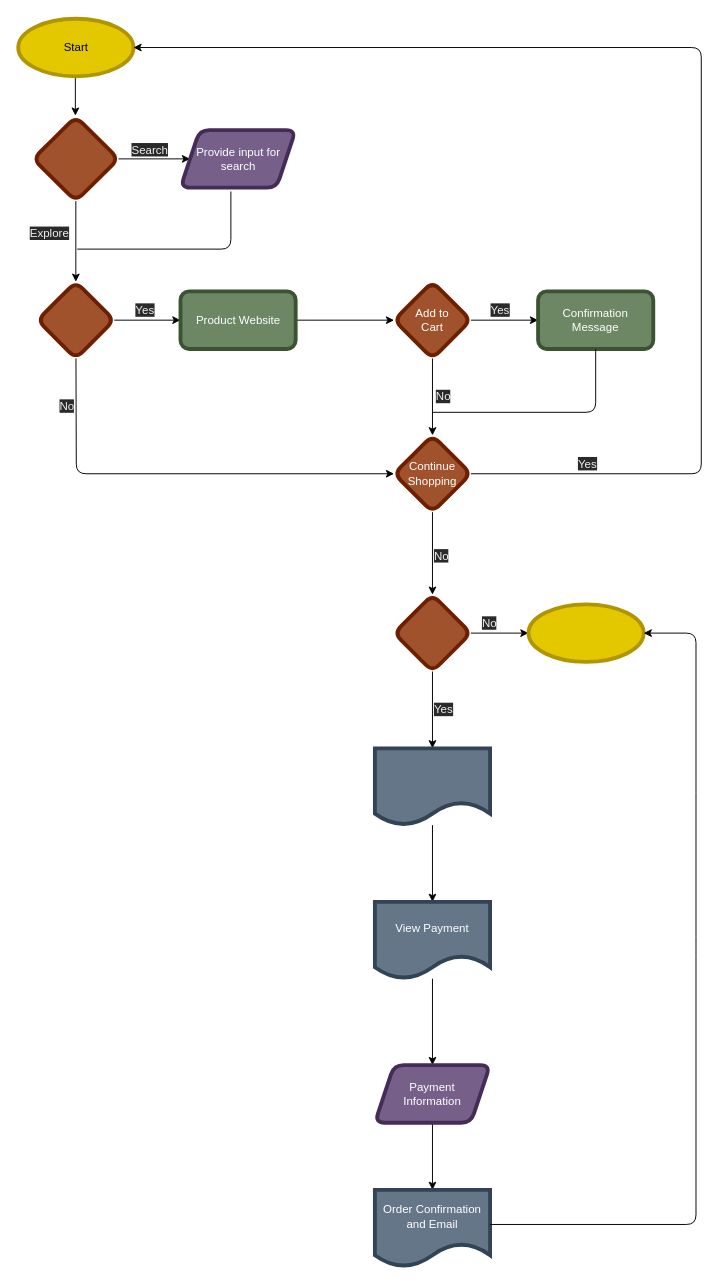
Image size: 726x1284. Some labels were removed from this diagram. The centre of each missing label's shape, as x and y in pixels:
Checkout: the point at 432,632
Exit: the point at 585,632
Product View: the point at 75,319
Selection: the point at 75,158
View Cart: the point at 432,786
